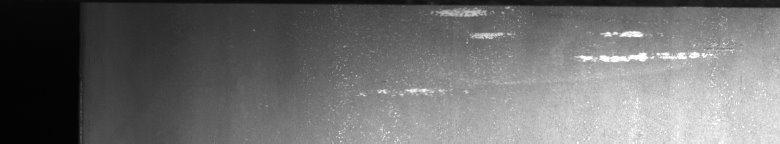kb: (286, 4, 776, 135)
